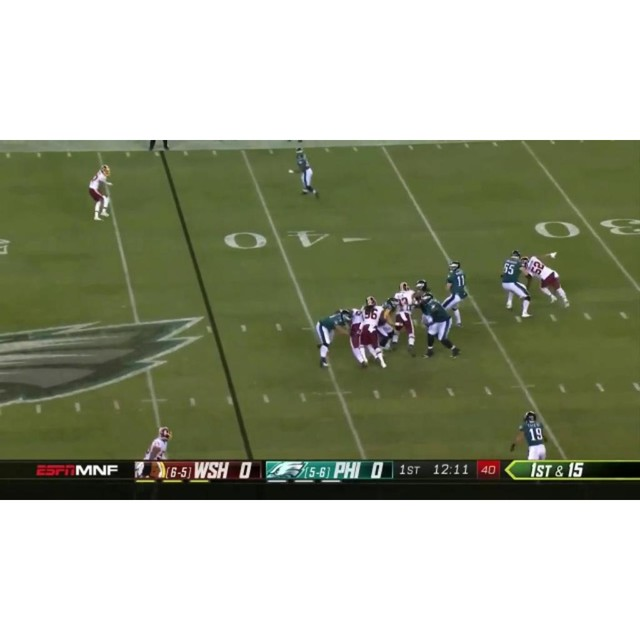american-football-player: (418, 291, 461, 360), (524, 255, 570, 308), (499, 251, 534, 317), (315, 310, 352, 369), (354, 307, 388, 369), (440, 260, 470, 328), (389, 282, 418, 352), (510, 410, 547, 460), (291, 147, 321, 199), (89, 163, 113, 221), (143, 426, 172, 461)
